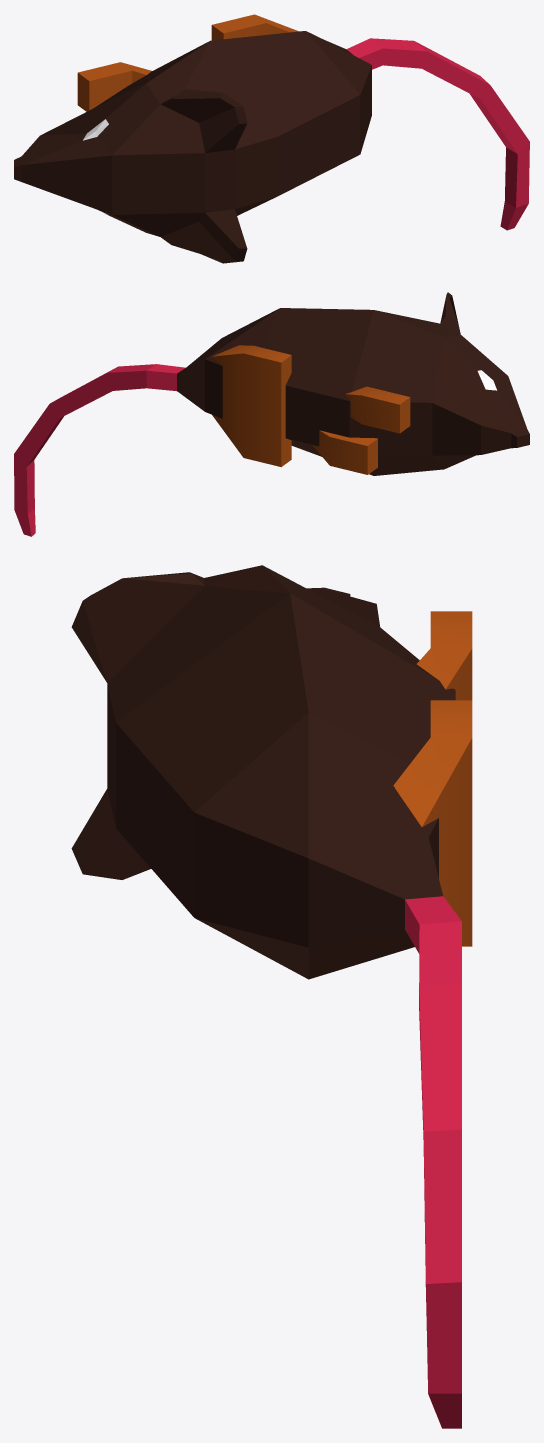
Rendered from Mouse_01.obj.
3 renders of one model, top to bottom at view 1: azimuth 30°, elevation 25°; view 2: azimuth 150°, elevation 25°; view 3: azimuth 270°, elevation 25°, orthographic. The views are drawn at different scales.
Parts seen in each view (by area): view 1: pCube70; view 2: pCube70; view 3: pCube70.
Part boxes in pixels (x1=…): pCube70: x1=14, y1=14, x2=529, y2=263; pCube70: x1=14, y1=292, x2=529, y2=536; pCube70: x1=71, y1=565, x2=472, y2=1428.
Bounding box in the file's own units: 446 × 238 × 161.
